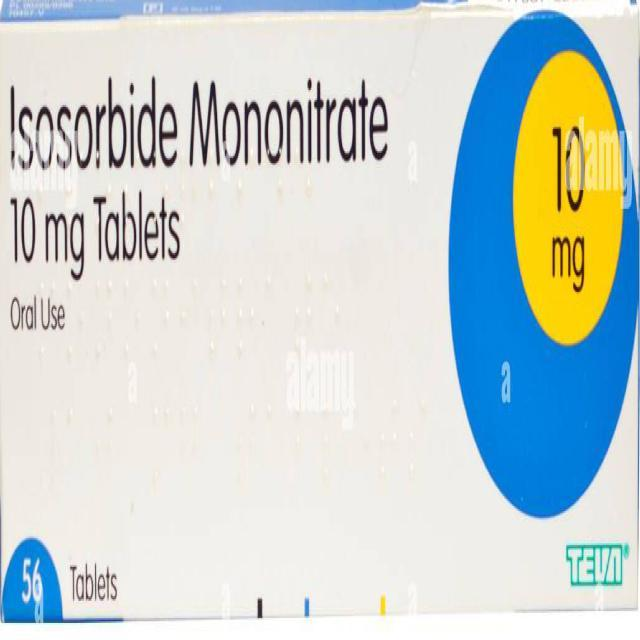drug-name: (5, 76, 393, 172)
